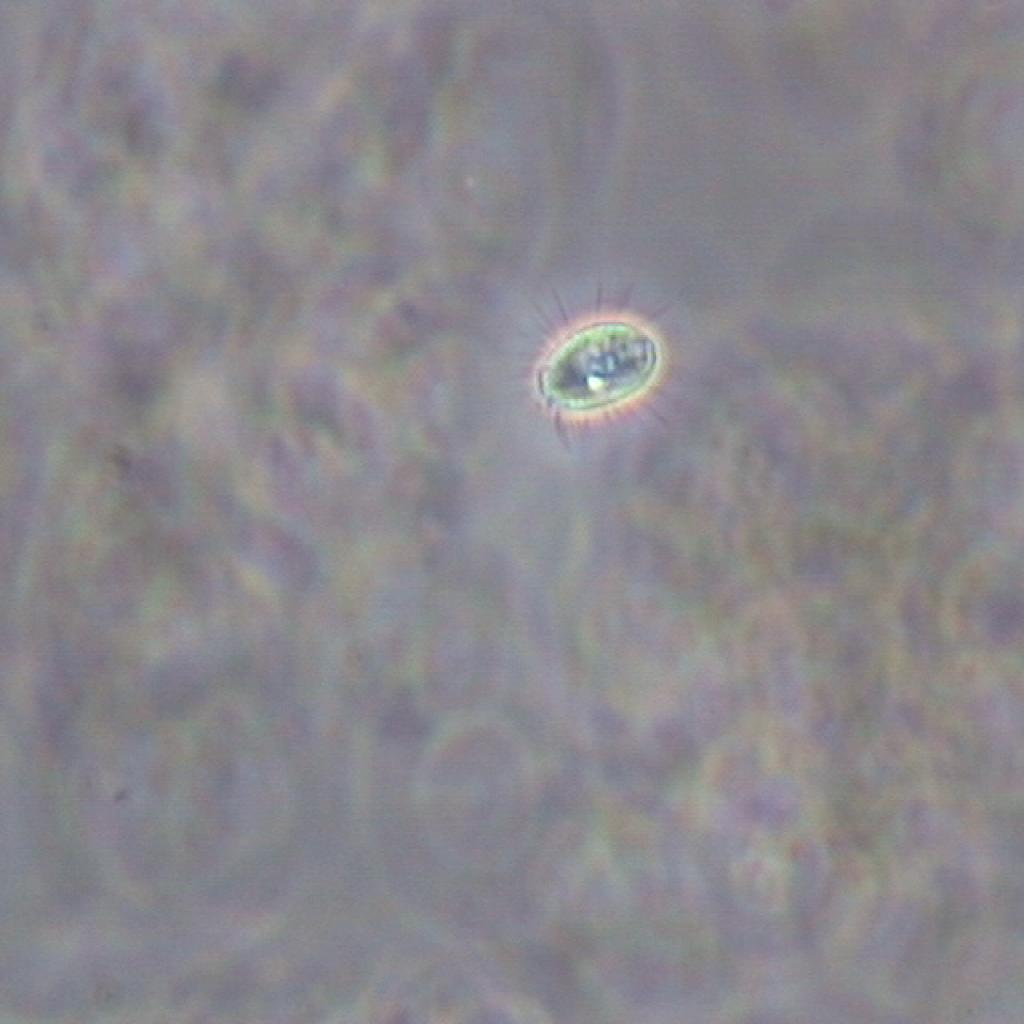Cyclidium: (503, 277, 692, 444)
